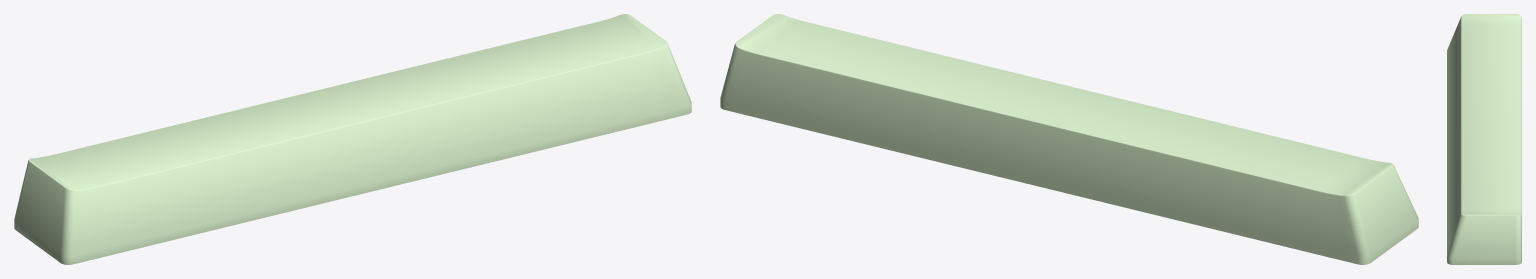
Rendered from space.glb.
The picture shows the model from 3 angles, left to right: view 1: azimuth 30°, elevation 25°; view 2: azimuth 150°, elevation 25°; view 3: azimuth 270°, elevation 25°; orthographic projection. The views are drawn at different scales.
Parts seen in each view (by area): view 1: keycap_space; view 2: keycap_space; view 3: keycap_space.
Boxes of the visible parts, x1=… form: keycap_space: x1=14, y1=14, x2=691, y2=264; keycap_space: x1=720, y1=14, x2=1418, y2=264; keycap_space: x1=1447, y1=14, x2=1521, y2=264.
Bounding box in the file's own units: 0.1205 × 0.0118 × 0.018.
